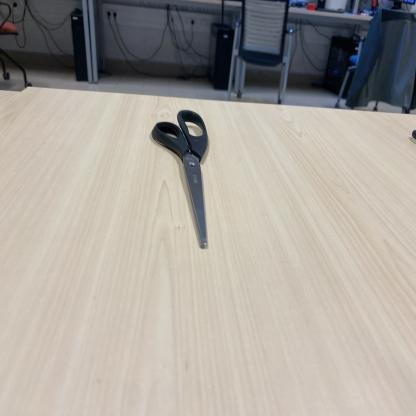scissors: (151, 110, 211, 248)
